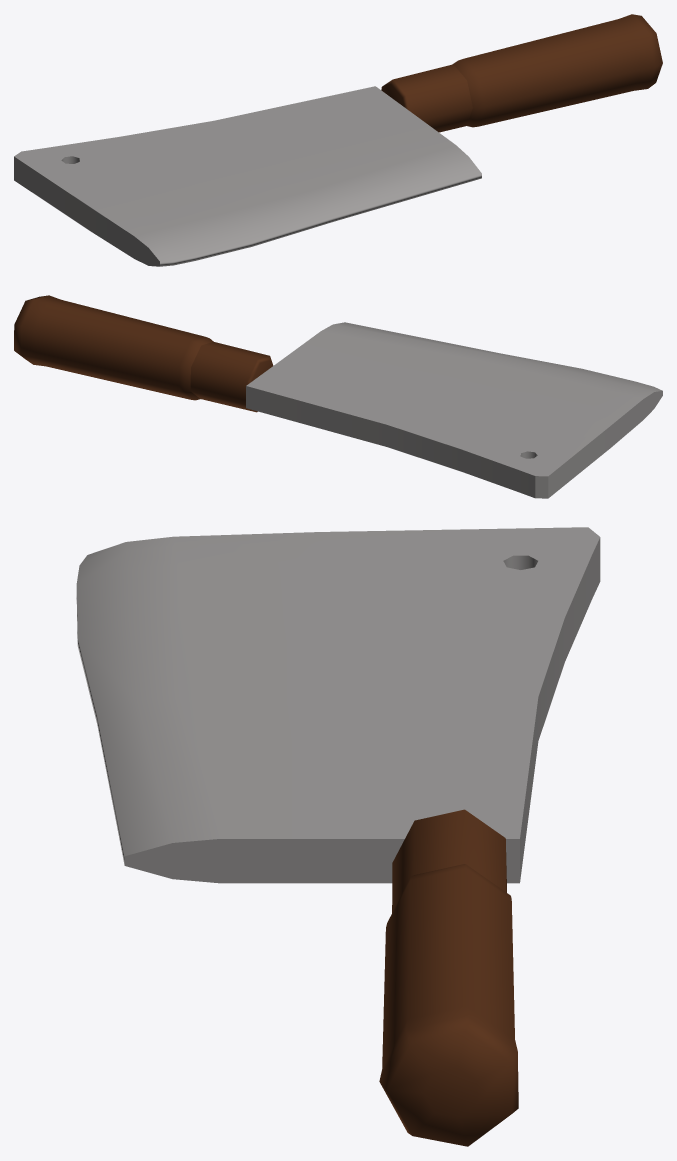
File: Cuchillo.fbx
3 views of the same model, one above another, from view 1: azimuth 30°, elevation 25°; view 2: azimuth 150°, elevation 25°; view 3: azimuth 270°, elevation 25° (orthographic). The views are drawn at different scales.
Parts seen in each view (by area): view 1: Cuchillo; view 2: Cuchillo; view 3: Cuchillo.
Part boxes in pixels (x1,y1,x2,y2): Cuchillo: (14, 14, 662, 266); Cuchillo: (14, 295, 662, 498); Cuchillo: (76, 527, 600, 1146).
Bounding box in the file's own units: 59.84 × 6.63 × 24.36.
